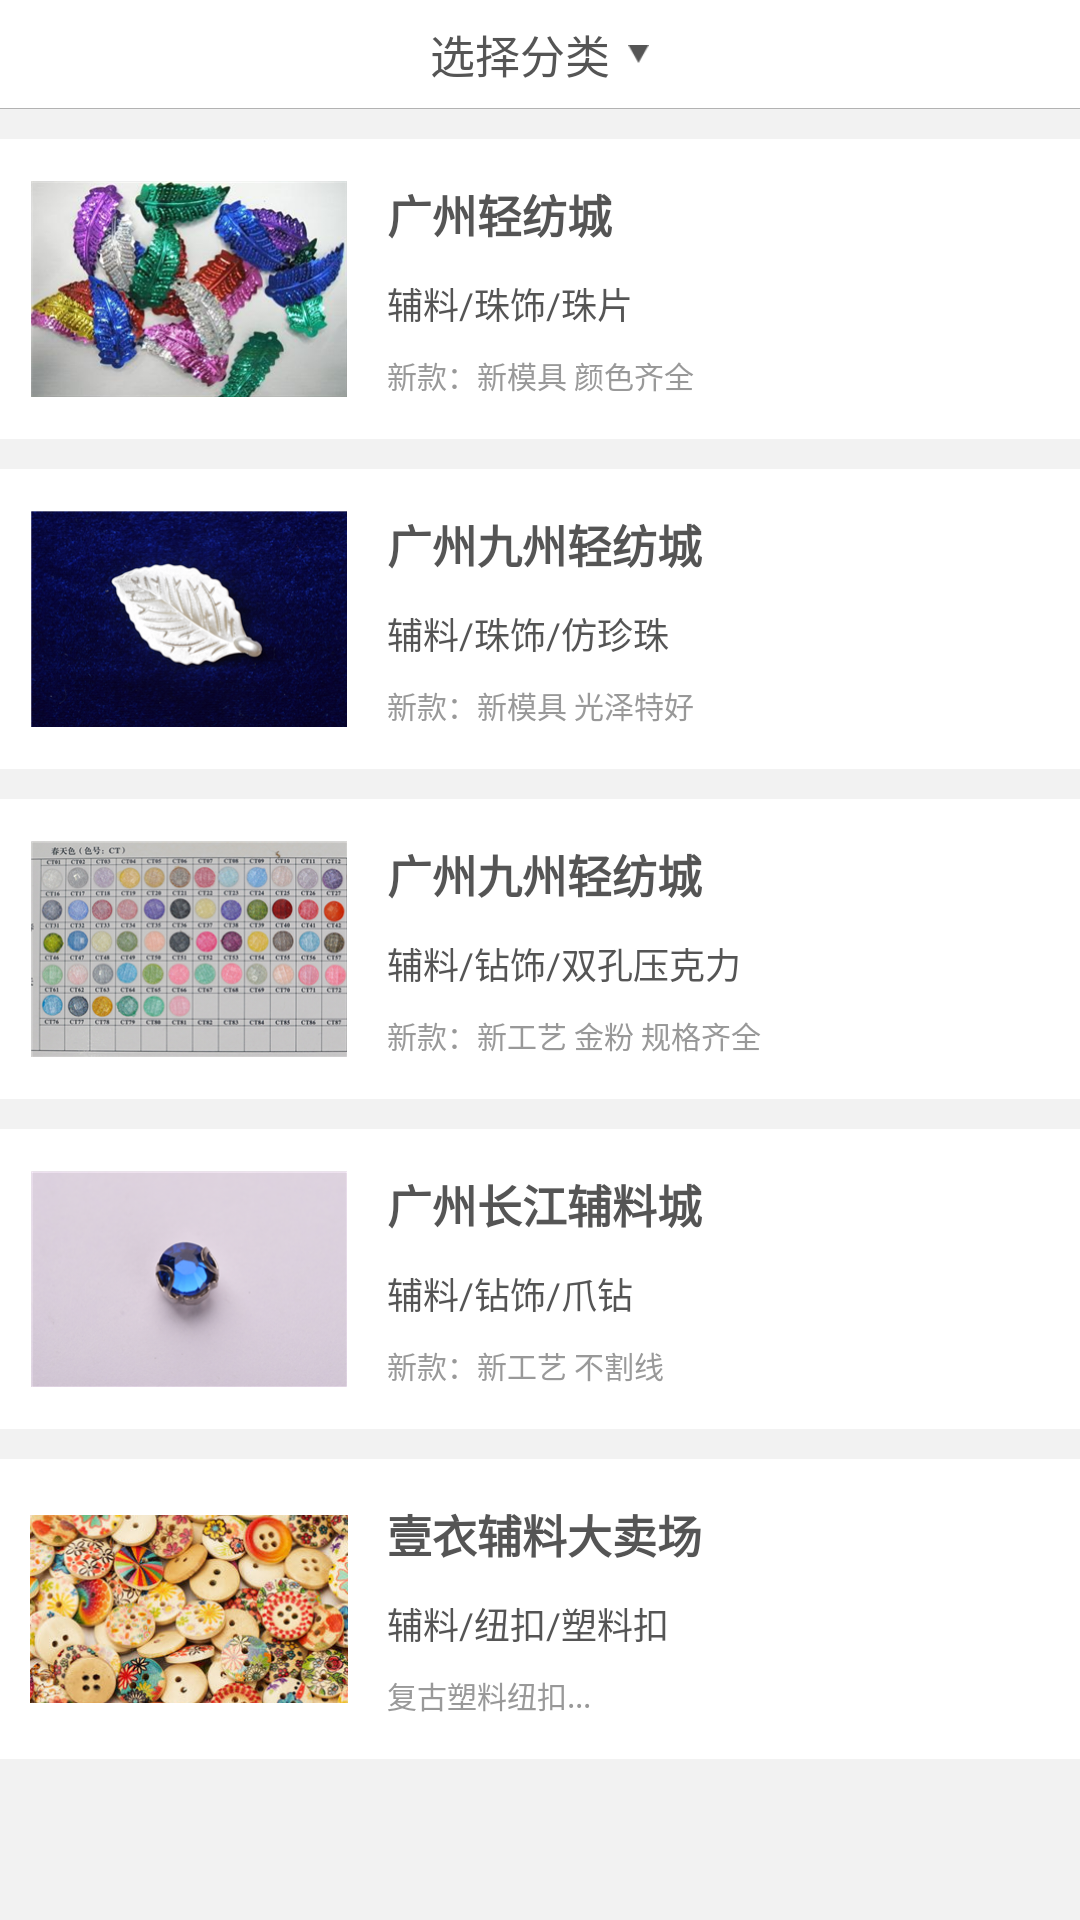

Named icons in this screenshot (1080 x 1920) and their centers, (x=x, y=y):
product: (x=189, y=289), (x=189, y=619), (x=189, y=949), (x=189, y=1279), (x=189, y=1609)
